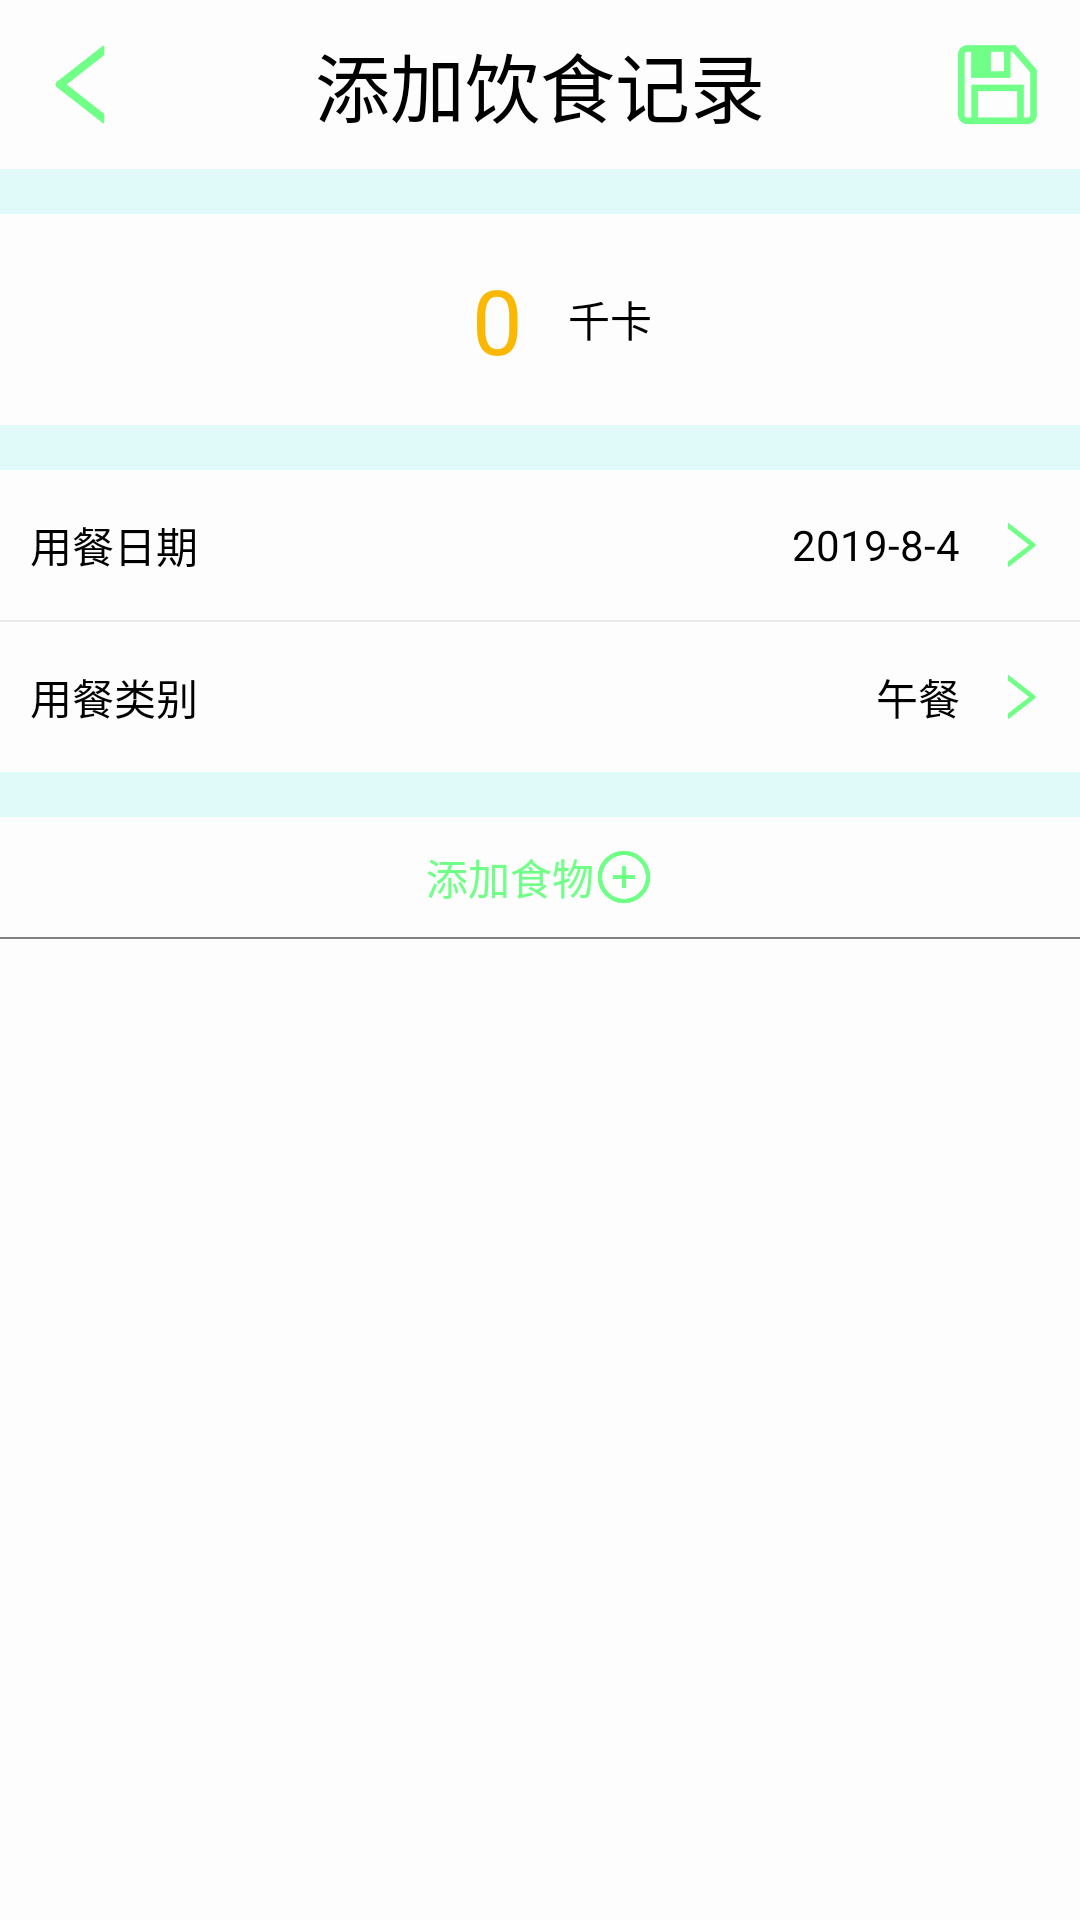

Where icons sit on this 1080px×1920px app screen, as (x1, y1, x2, y2):
back left: (55, 45, 105, 124)
record plus: (598, 851, 650, 903)
right: (1008, 523, 1036, 567), (1008, 675, 1036, 719)
save: (958, 45, 1037, 124)
